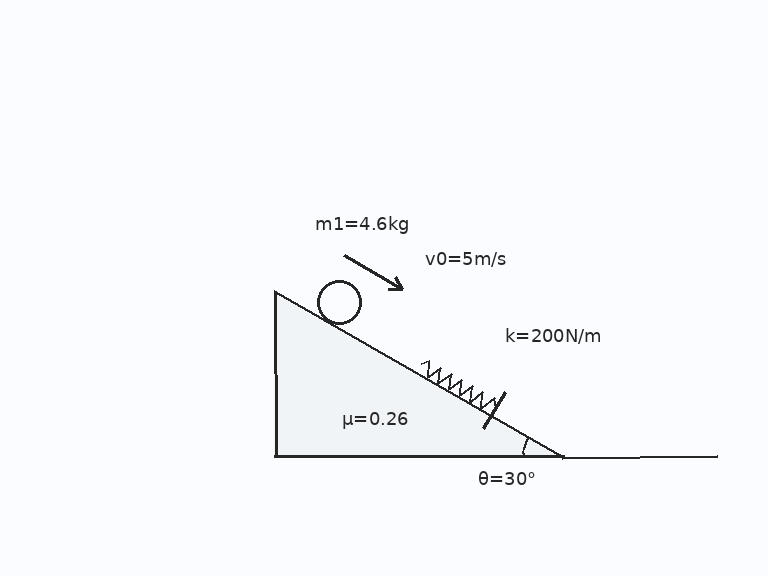ball: (315, 278, 363, 326)
ramp: (273, 289, 565, 459)
spring: (418, 359, 497, 410)
